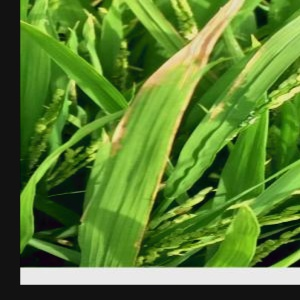Leaf_Blast: (106, 6, 207, 227)
